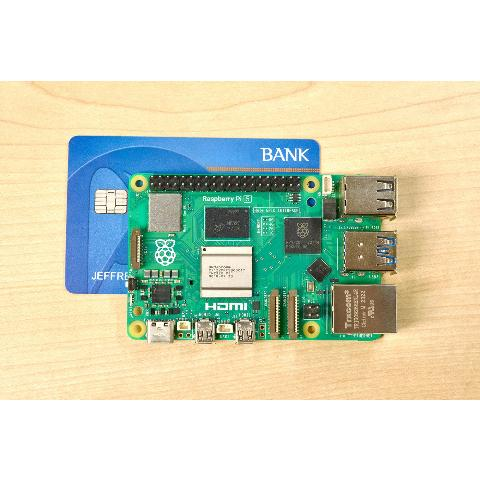Raspberry Pi 5: (127, 172, 397, 346)
